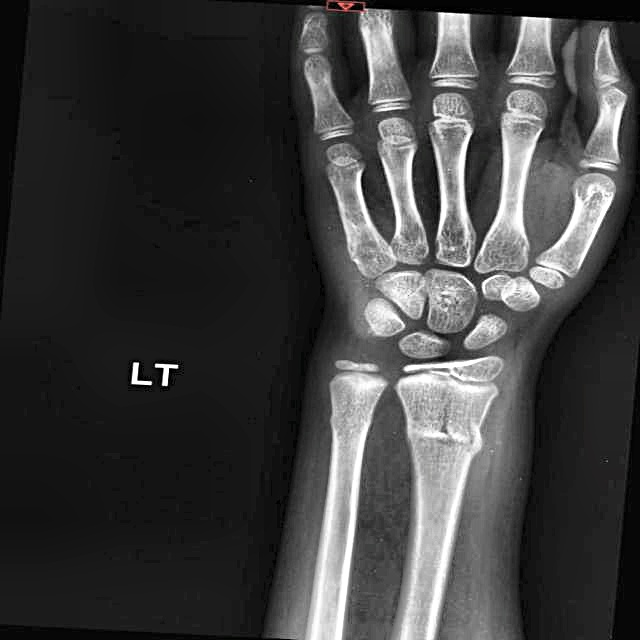Linear: (408, 388, 481, 479)
